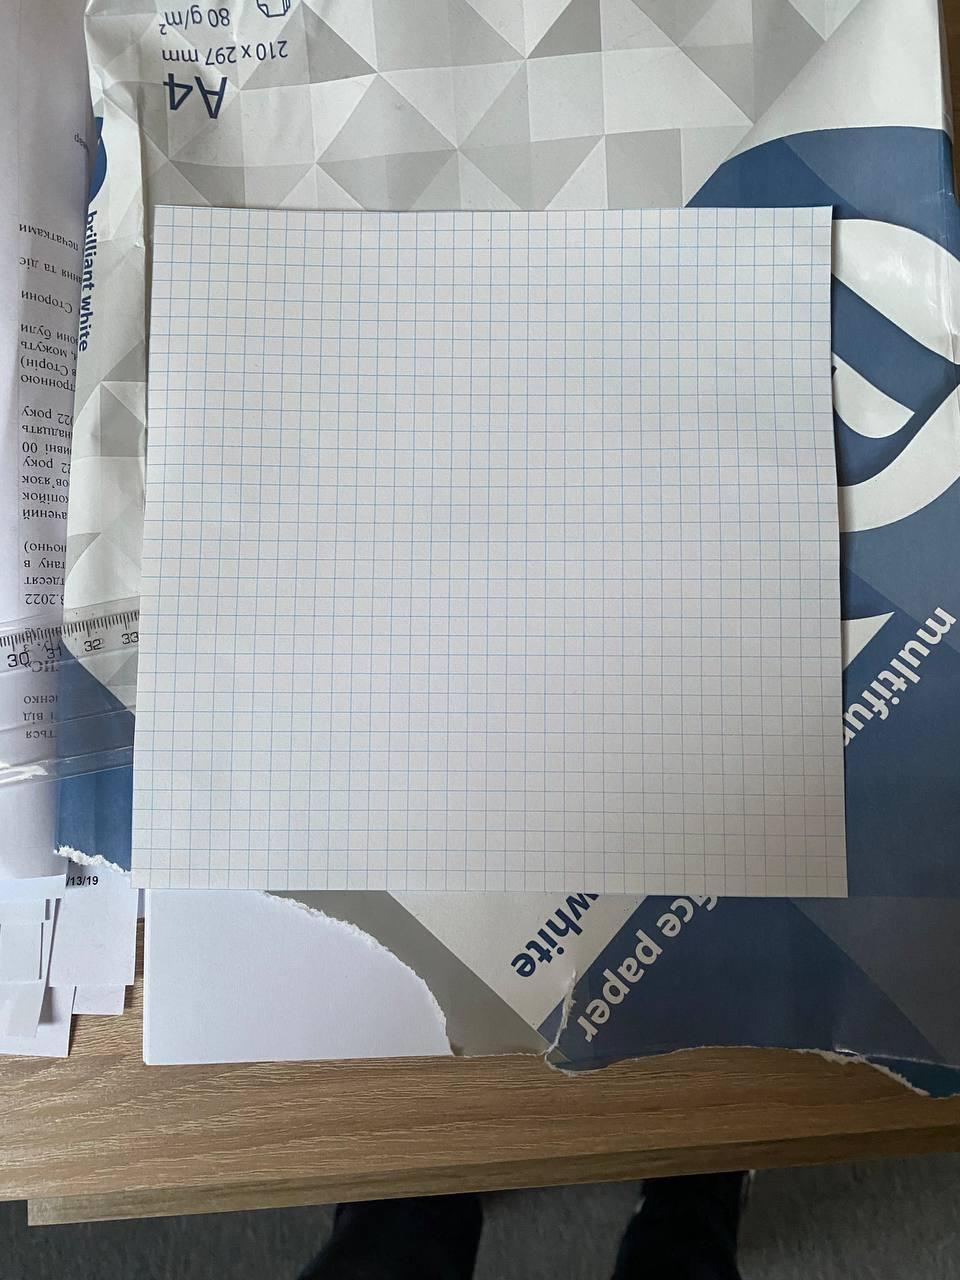grid: (120, 193, 859, 910)
